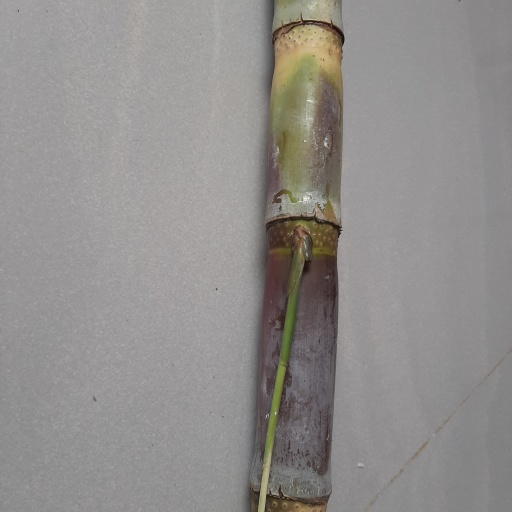Sprouted_Bud: (288, 223, 314, 287)
